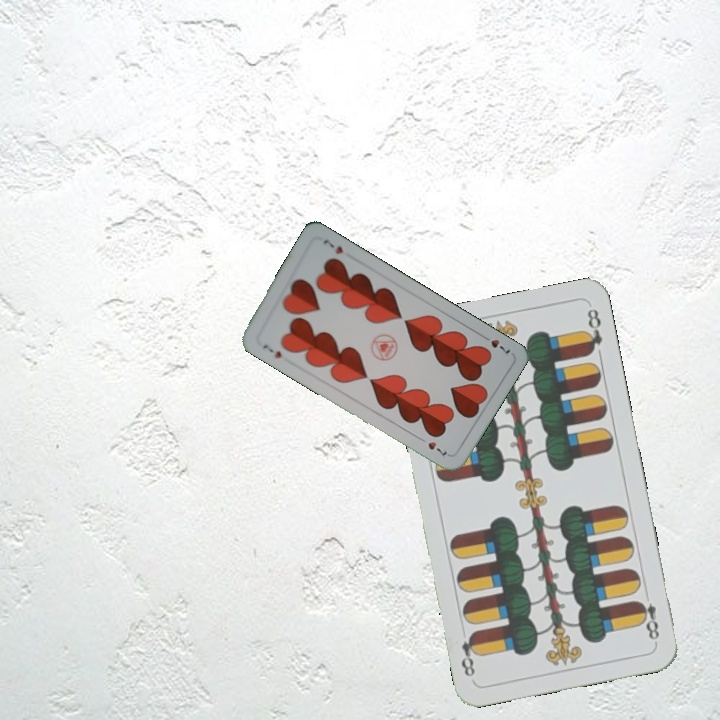E8: (634, 597, 662, 646)
H7: (477, 330, 513, 356), (259, 340, 284, 361)
